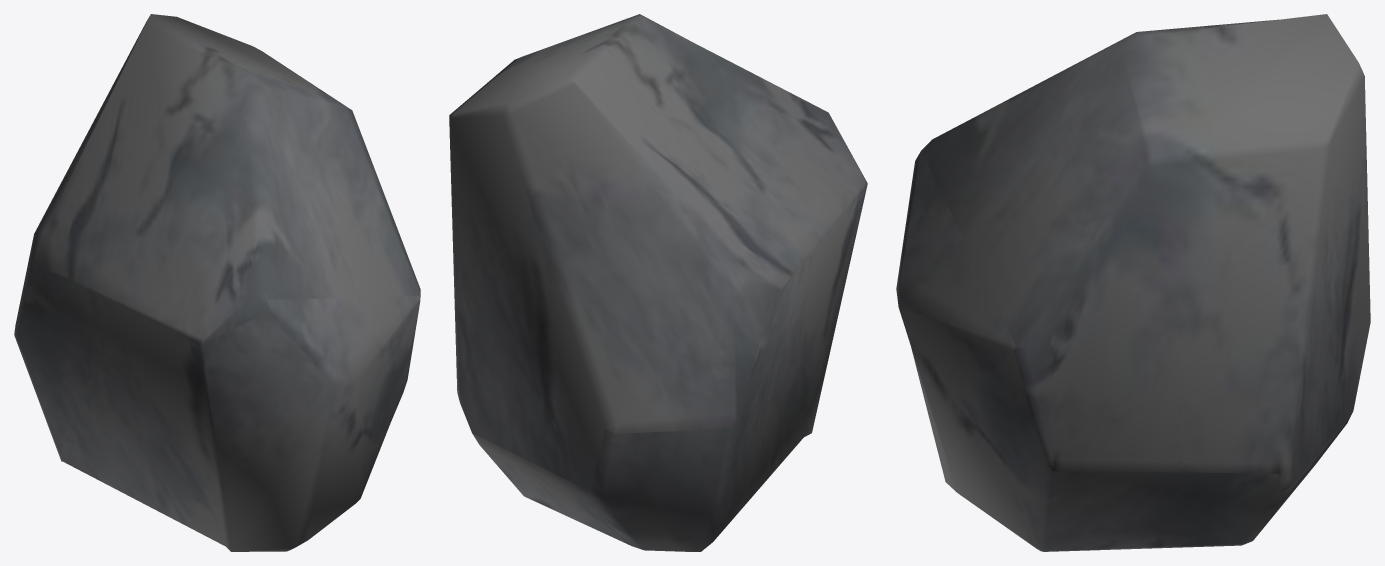
The model's file is Pedra1.fbx.
The picture shows the model from 3 angles, left to right: view 1: azimuth 30°, elevation 25°; view 2: azimuth 150°, elevation 25°; view 3: azimuth 270°, elevation 25°; orthographic projection. The views are drawn at different scales.
Parts seen in each view (by area): view 1: Pedra1; view 2: Pedra1; view 3: Pedra1.
Part boxes in pixels (left/top/right/bottom): Pedra1: left=14, top=14, right=420, bottom=551; Pedra1: left=449, top=14, right=867, bottom=551; Pedra1: left=896, top=14, right=1370, bottom=551.
Size of the model in its own units: 56.54 by 78.06 by 68.19.
